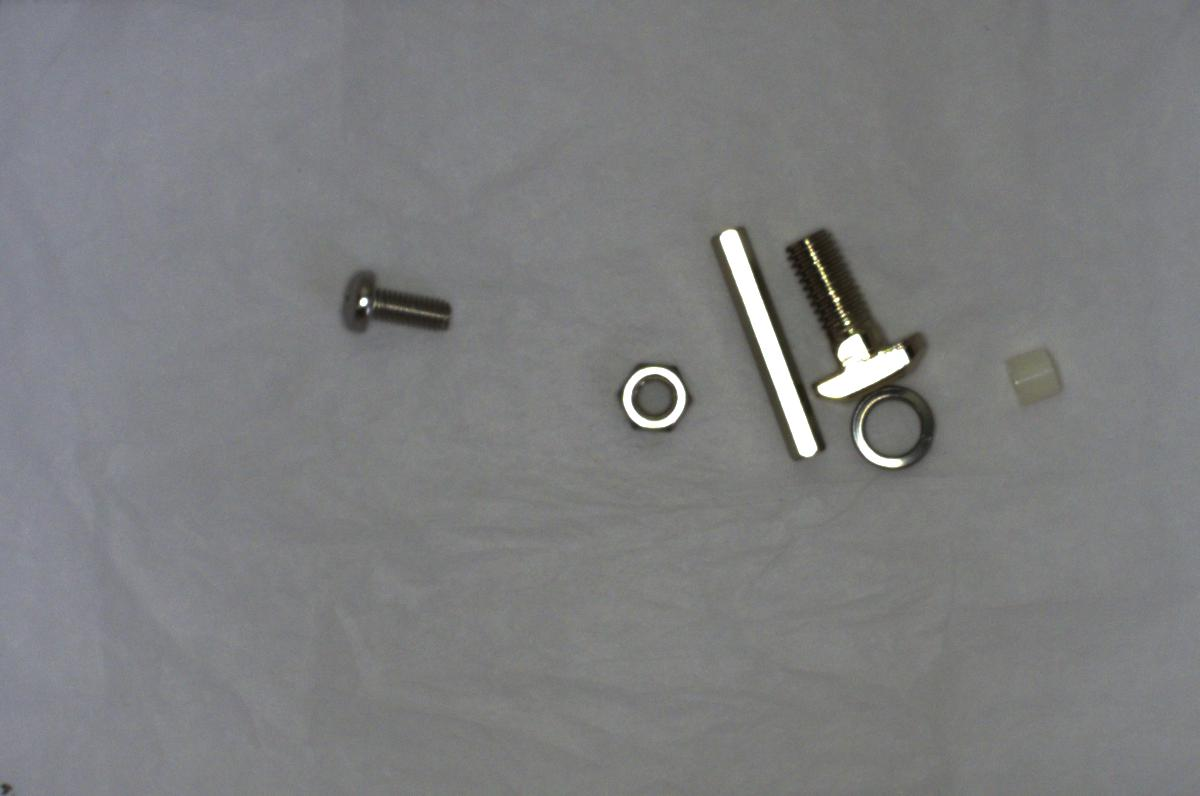Double hexagonal column: (706, 221, 820, 469)
Hexagon nut: (605, 355, 701, 439)
Plastic cushion pillar: (1000, 344, 1074, 410)
Round head screw: (330, 263, 462, 342)
Spring washer: (846, 380, 946, 471)
T-shaped screw: (784, 214, 941, 405)
